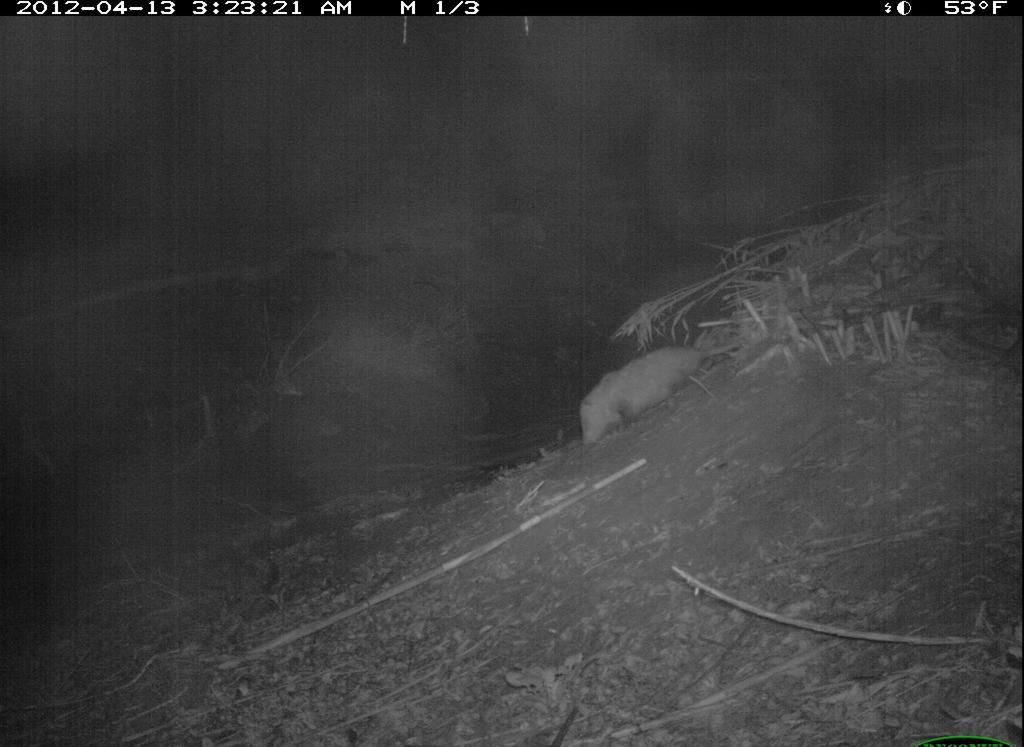opossum: (573, 338, 740, 446)
